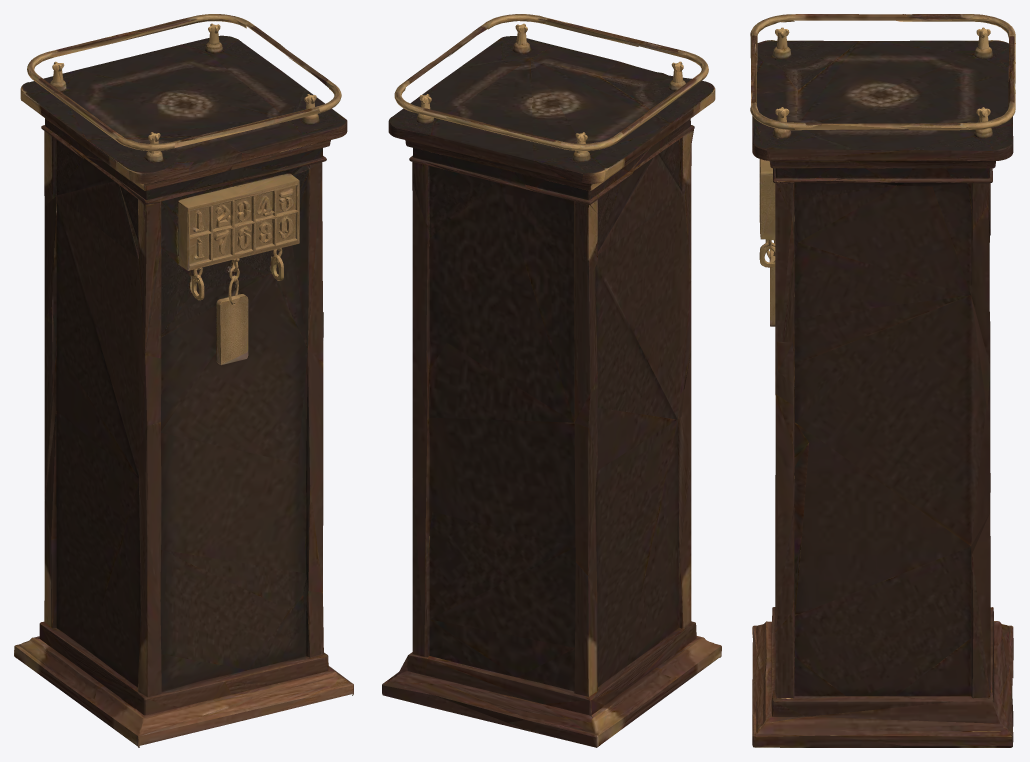
The model's file is valetStand.glb.
3 views of the same model, side by side, from view 1: azimuth 30°, elevation 25°; view 2: azimuth 150°, elevation 25°; view 3: azimuth 270°, elevation 25° (orthographic). The views are drawn at different scales.
Bounding box in the file's own units: 0.7305 × 1.9 × 0.7328.
1 material, 1 textured.
